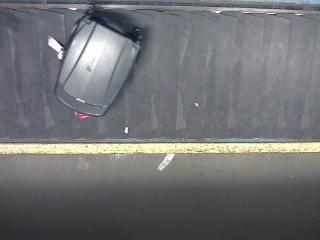Suitcase: (56, 8, 140, 115)
